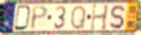3: (53, 5, 68, 30)
D: (13, 4, 33, 32)
H: (89, 3, 110, 32)
P: (30, 5, 49, 31)
Q: (69, 5, 87, 31)
S: (109, 4, 126, 30)
